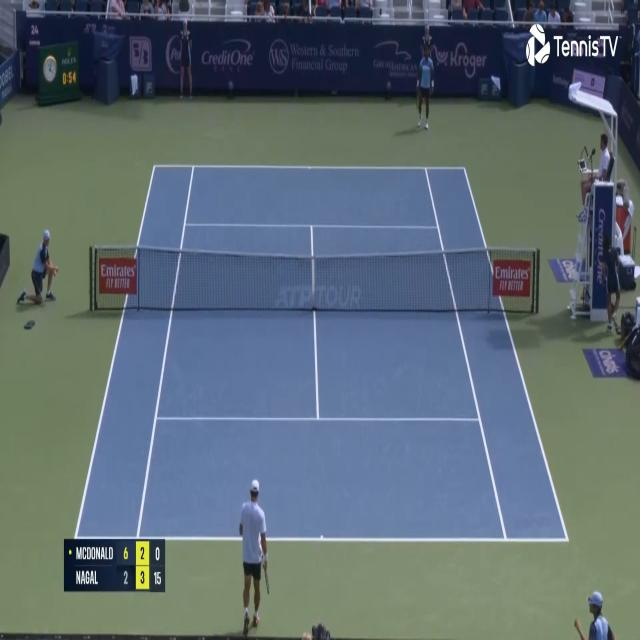tennis-player: (236, 478, 271, 636), (413, 42, 436, 131)
